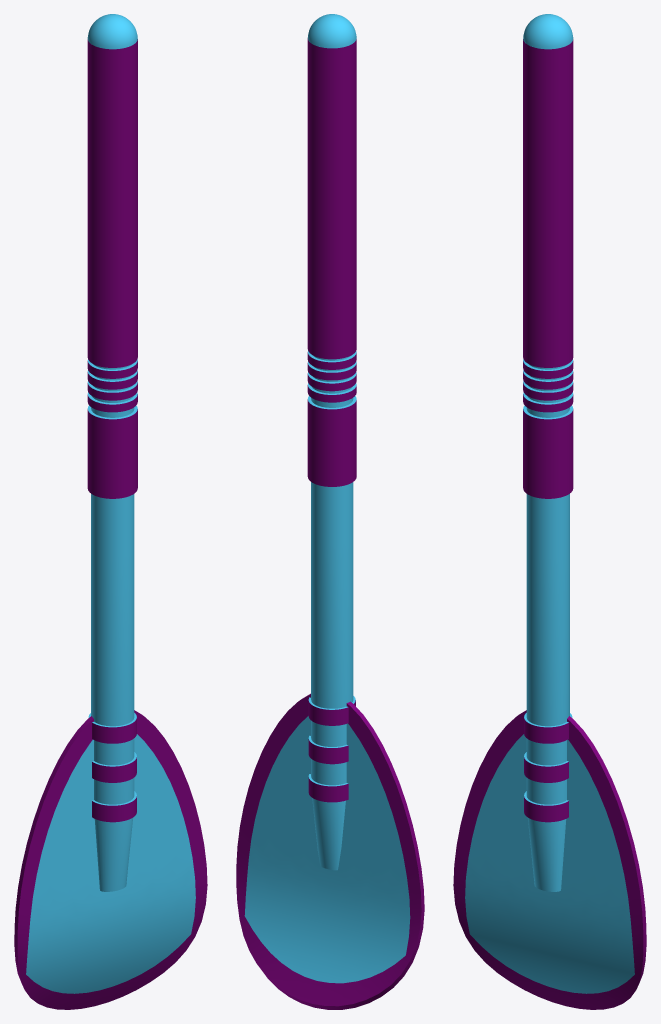
The model's file is paddle.fbx.
The picture shows the model from 3 angles, left to right: view 1: azimuth 30°, elevation 25°; view 2: azimuth 150°, elevation 25°; view 3: azimuth 330°, elevation 25°; orthographic projection. The views are drawn at different scales.
Parts seen in each view (by area): view 1: Cylinder; view 2: Cylinder; view 3: Cylinder.
Part boxes in pixels (x1,y1,x2,y2): Cylinder: [14, 14, 207, 1009]; Cylinder: [236, 14, 424, 1009]; Cylinder: [453, 14, 646, 1009].
Size of the model in its own units: 507 by 2559 by 153.
